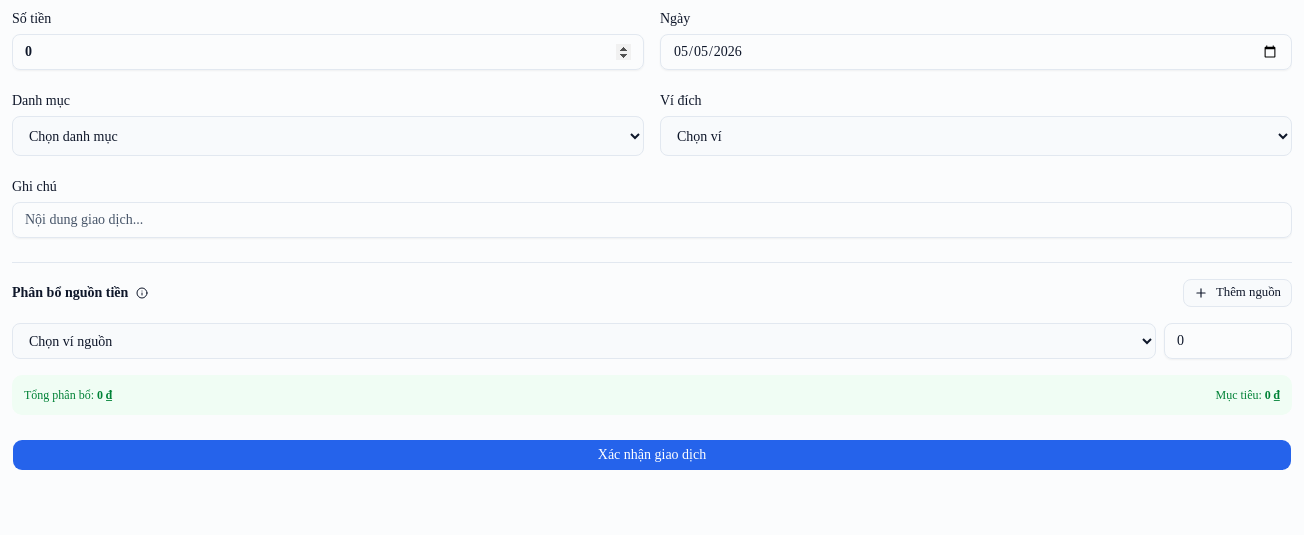
Test case: CreateTransactionForm › should allow adding an attribution row
This screenshot has width=1304, height=535.
Click the button with test id "finance-tx-add-attribution": [1238, 293] box [1183,279,1292,307]
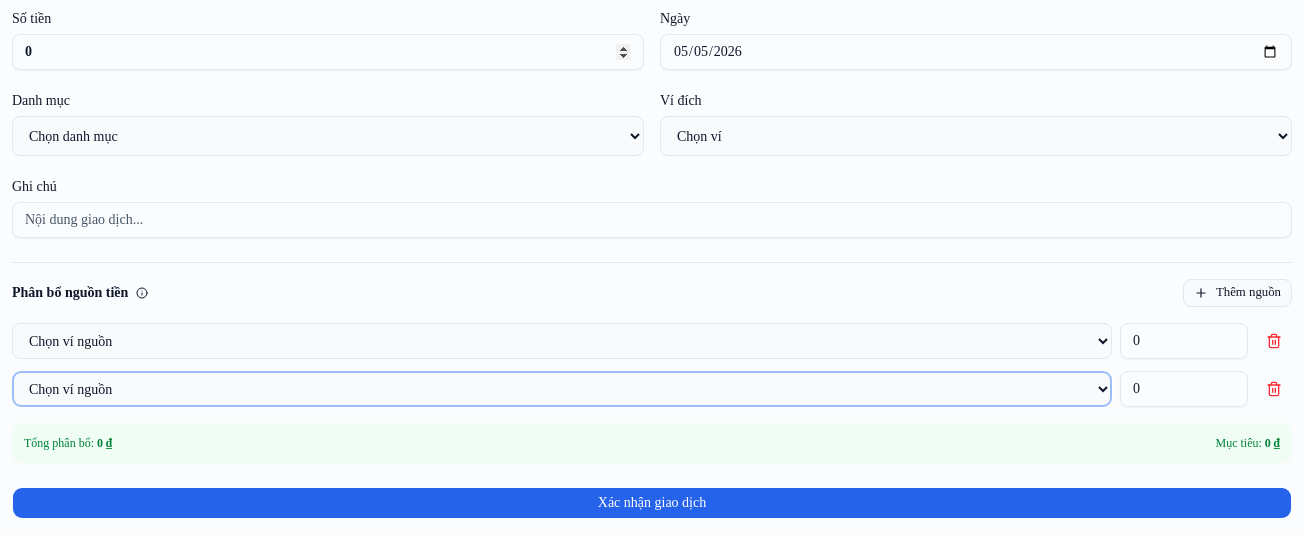
Expected: the number of elements with test id "finance-tx-attr-row" is 2, [12,323,1292,359]; [12,371,1292,407]
